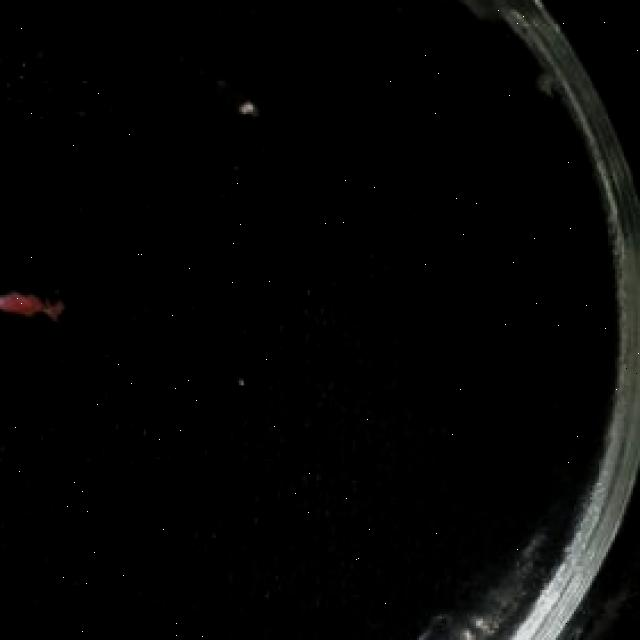Microplastic: (437, 0, 551, 69), (0, 276, 75, 354)
